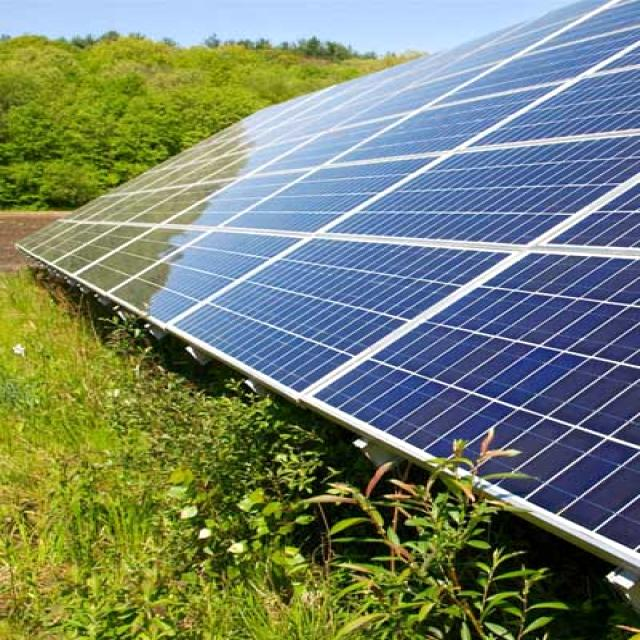crack: (241, 162, 640, 577), (94, 215, 588, 435), (379, 134, 640, 374), (252, 162, 450, 240)
